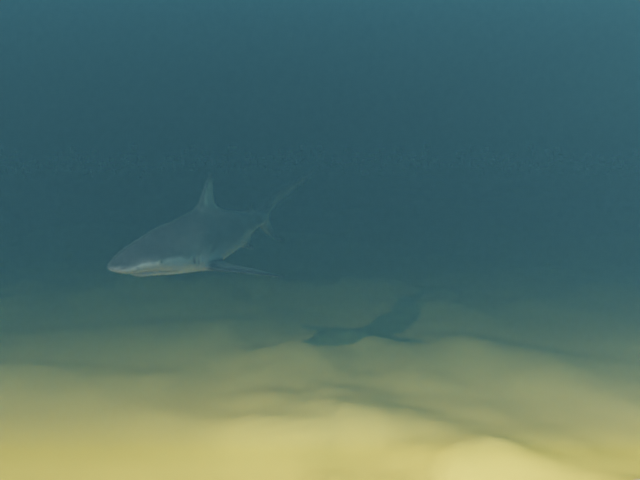Carribean Shark.001: (107, 170, 314, 277)
